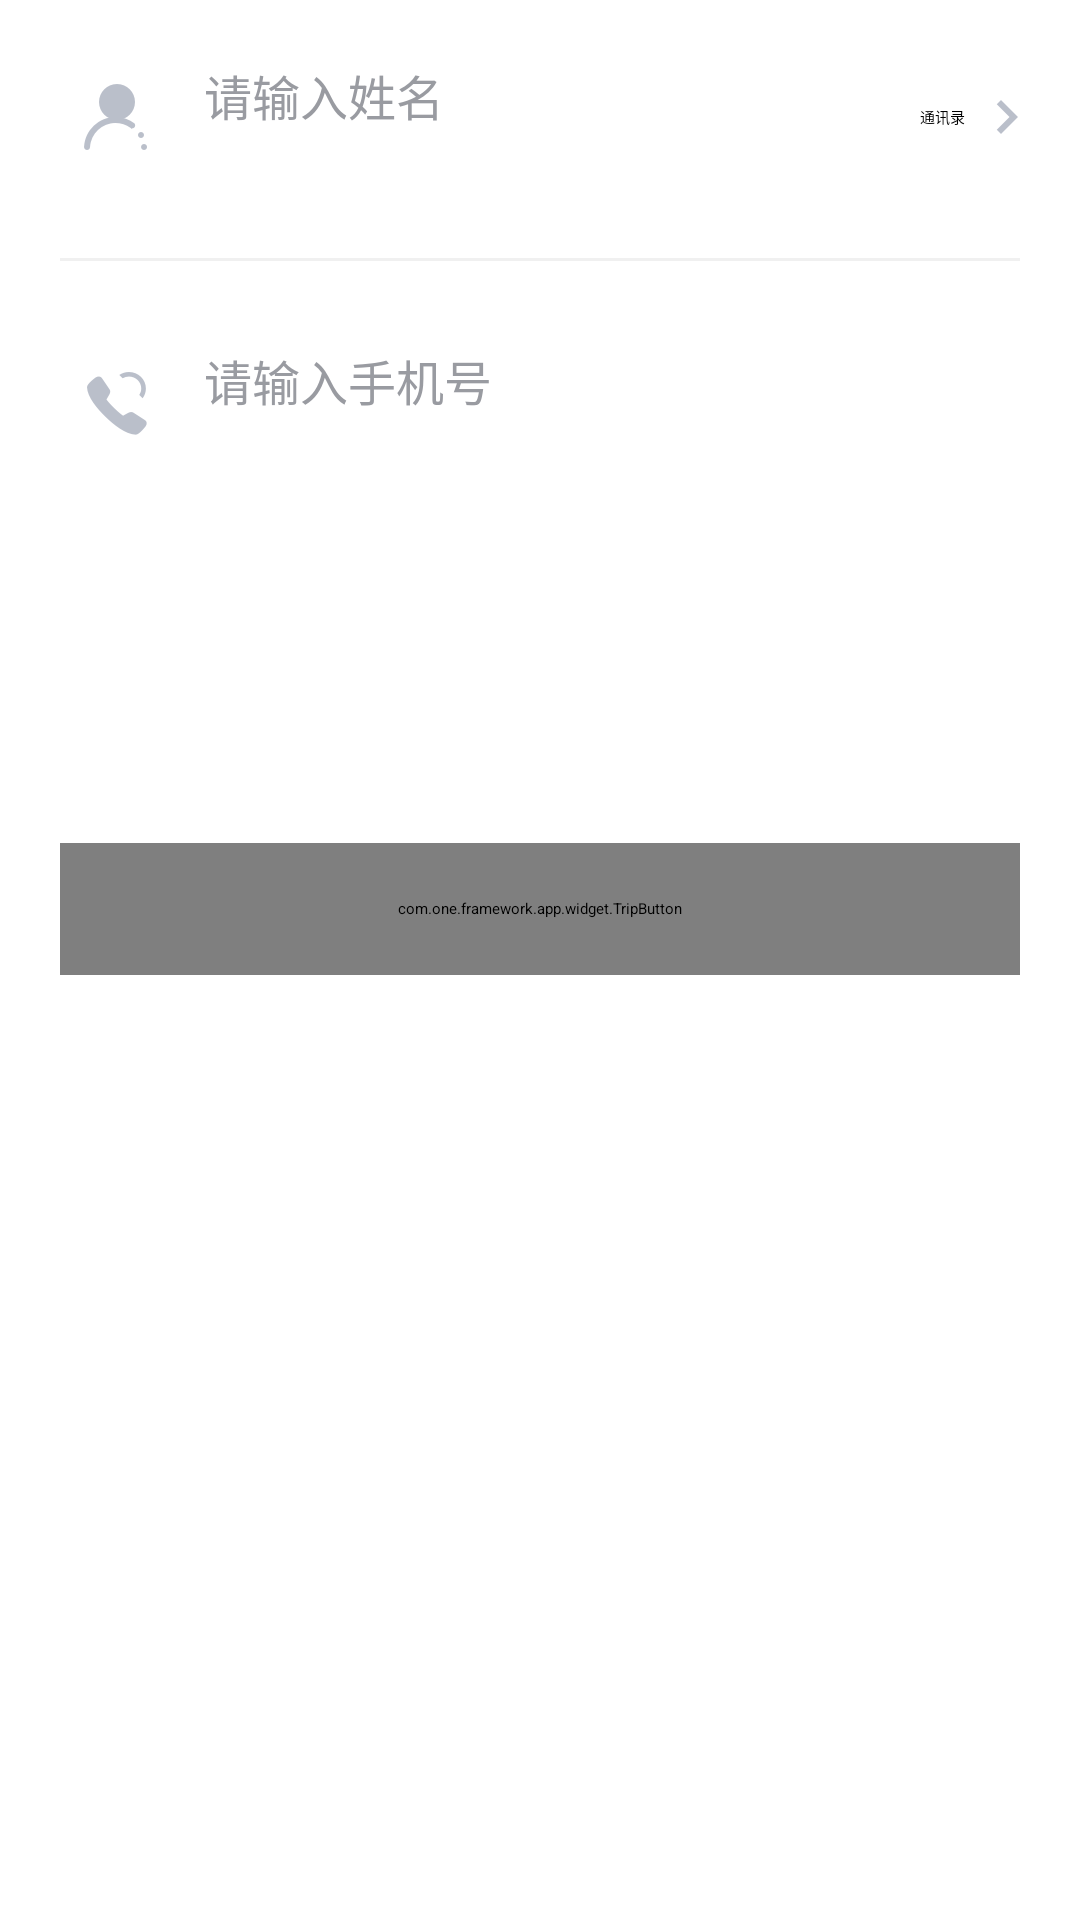

Where to tap for icons on this 1080x1920 app screen, as point (x, y):
one emergent name: point (115, 117)
one emergent phone: point (117, 403)
